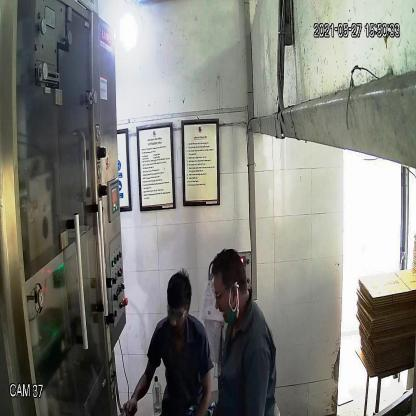goggles: (166, 301, 189, 322)
